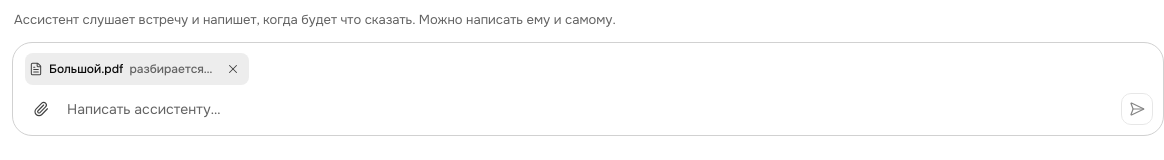
Test case: убрали, пока вложение загружалось, — убирается у ассистента, когда загрузка кончится
The width and height of the screenshot is (1164, 160).
Click the button named "Убрать вложение Большой.pdf": click(232, 68) x1=218 y1=54 x2=246 y2=82
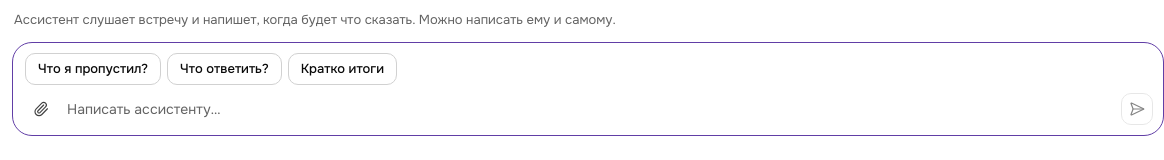
Expected: the list "Вложения" is gone
